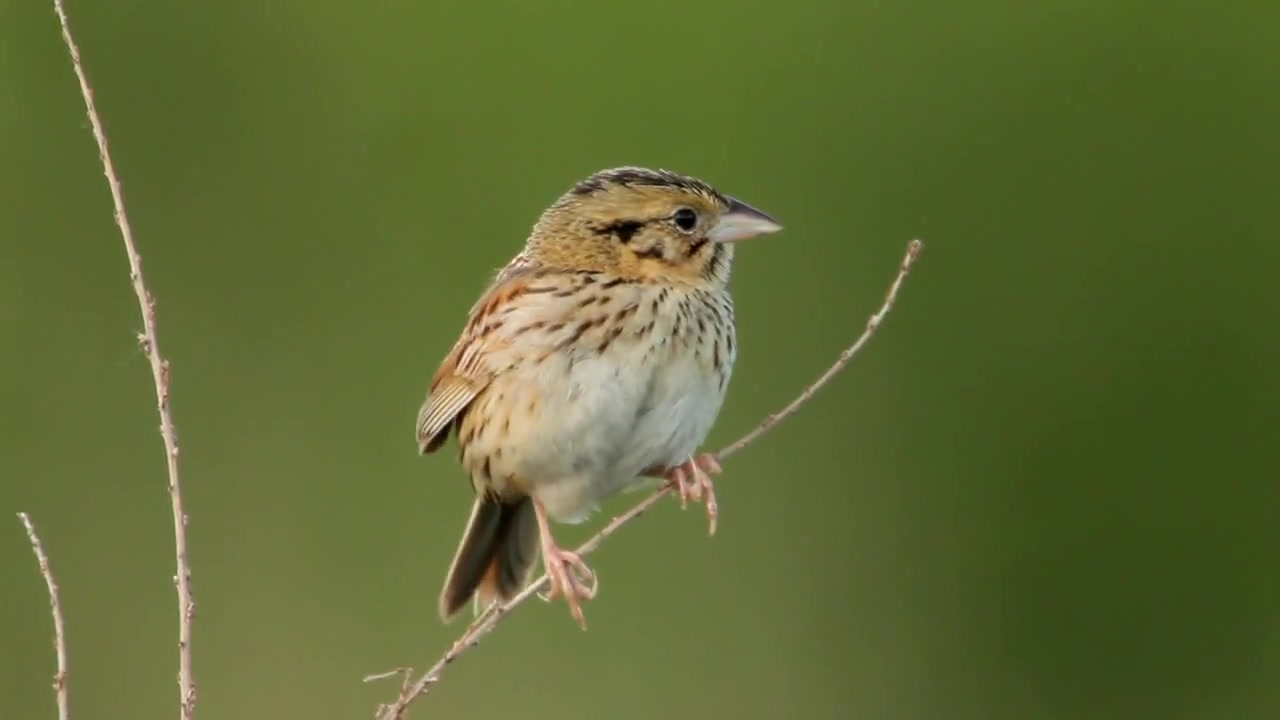bird: (414, 164, 788, 635)
